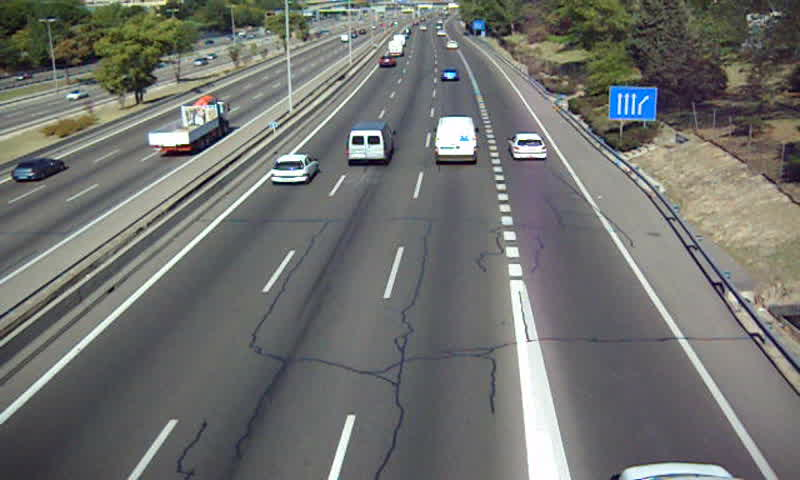car: (269, 154, 318, 185), (509, 131, 546, 158), (440, 68, 460, 83), (378, 55, 396, 67)
van: (347, 122, 396, 166), (435, 116, 478, 164)
